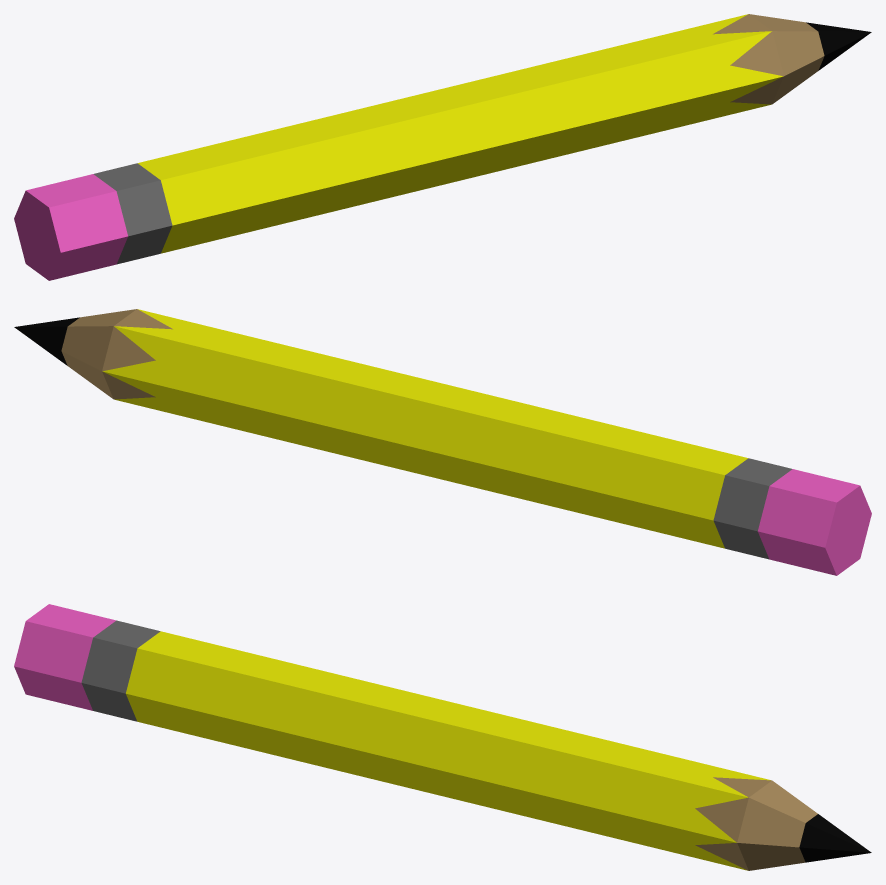
The model's file is Pencil.fbx.
3 views of the same model, one above another, from view 1: azimuth 30°, elevation 25°; view 2: azimuth 150°, elevation 25°; view 3: azimuth 330°, elevation 25° (orthographic).
Visible parts, largest first — view 1: Cylinder; view 2: Cylinder; view 3: Cylinder.
Boxes of the visible parts, x1,y1,x2,y2 form: Cylinder: (14,14,871,280); Cylinder: (14,309,871,575); Cylinder: (14,604,871,870).
Size of the model in its own units: 200 by 16.84 by 19.45.
